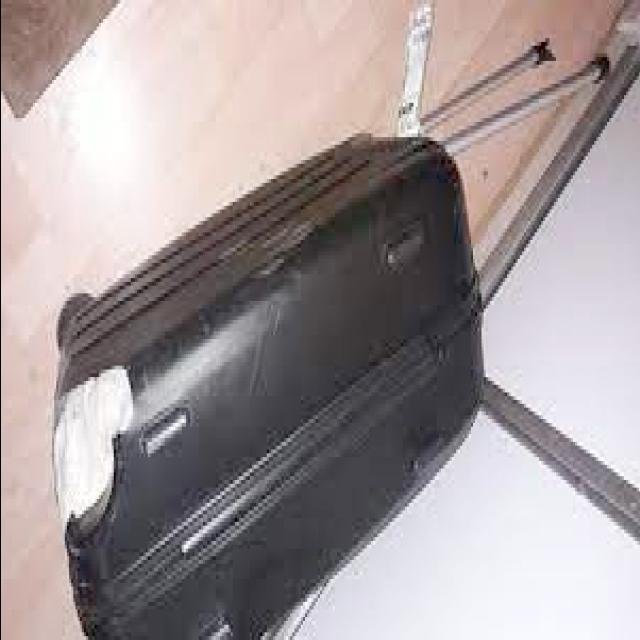Damage-bag: (52, 367, 132, 540), (525, 35, 615, 82)
